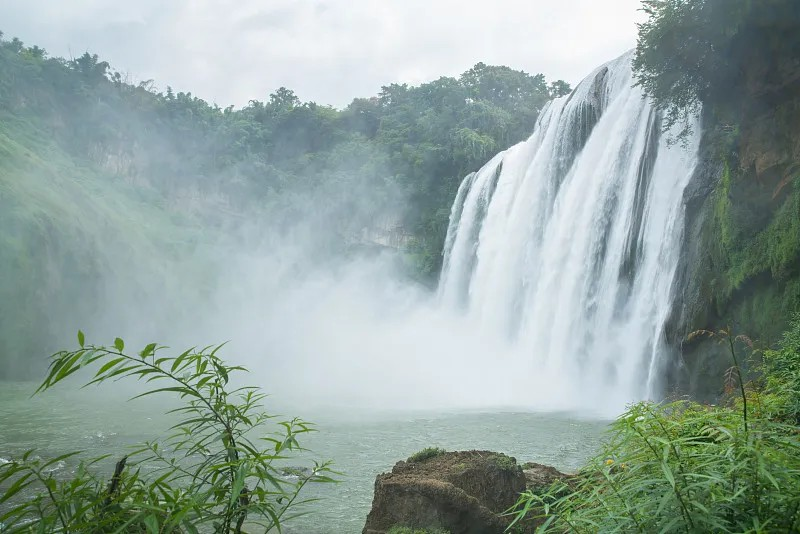Huangguoshu: (441, 48, 702, 414)
